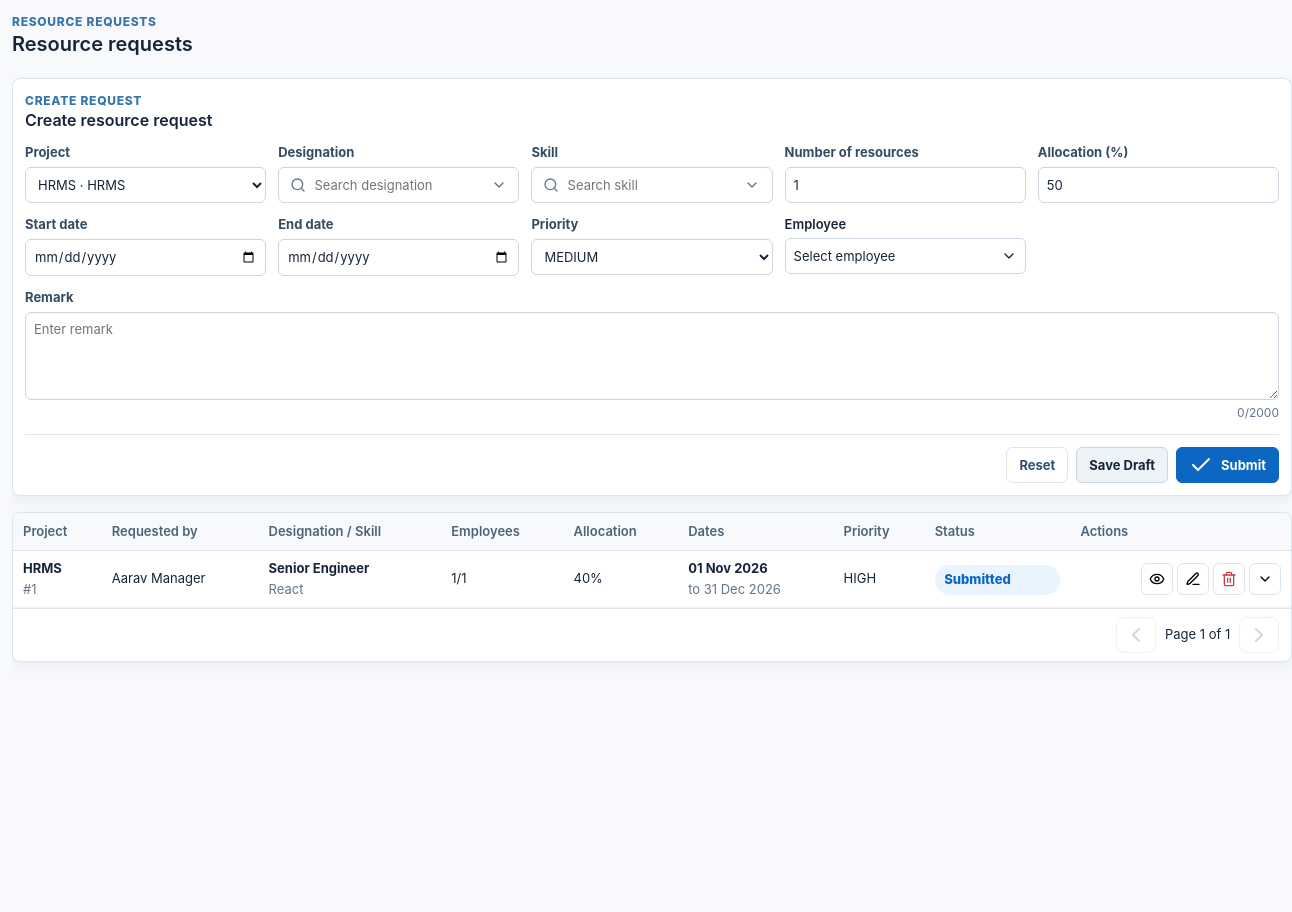
Test case: employee selection remains selected and closes the dropdown
The width and height of the screenshot is (1292, 912).
Click the button with aria-label "Select eligible employee" at (905, 256), box left=785, top=238, right=1026, bottom=274
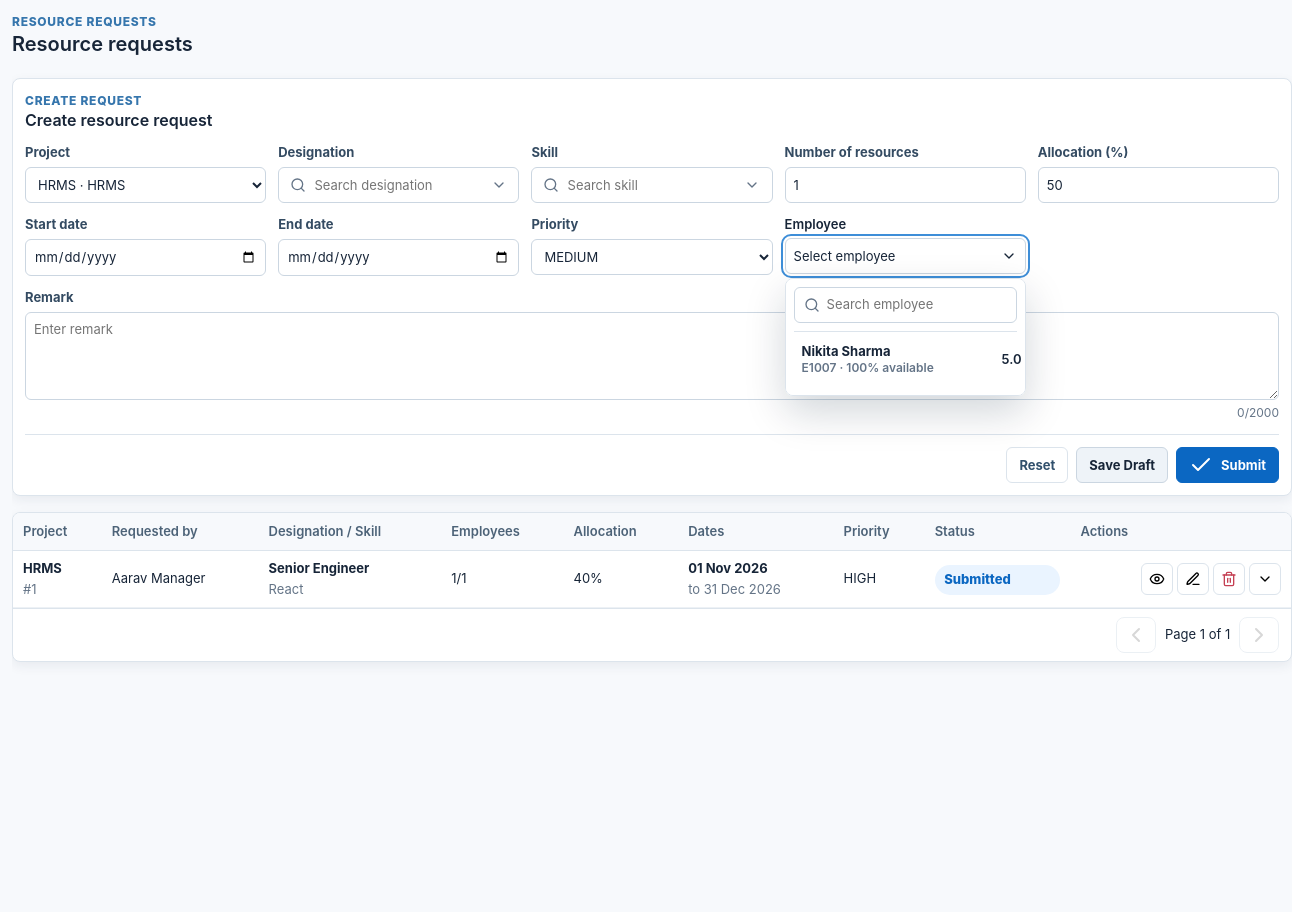
Click the text "Nikita Sharma" at (846, 351), box left=802, top=343, right=890, bottom=359
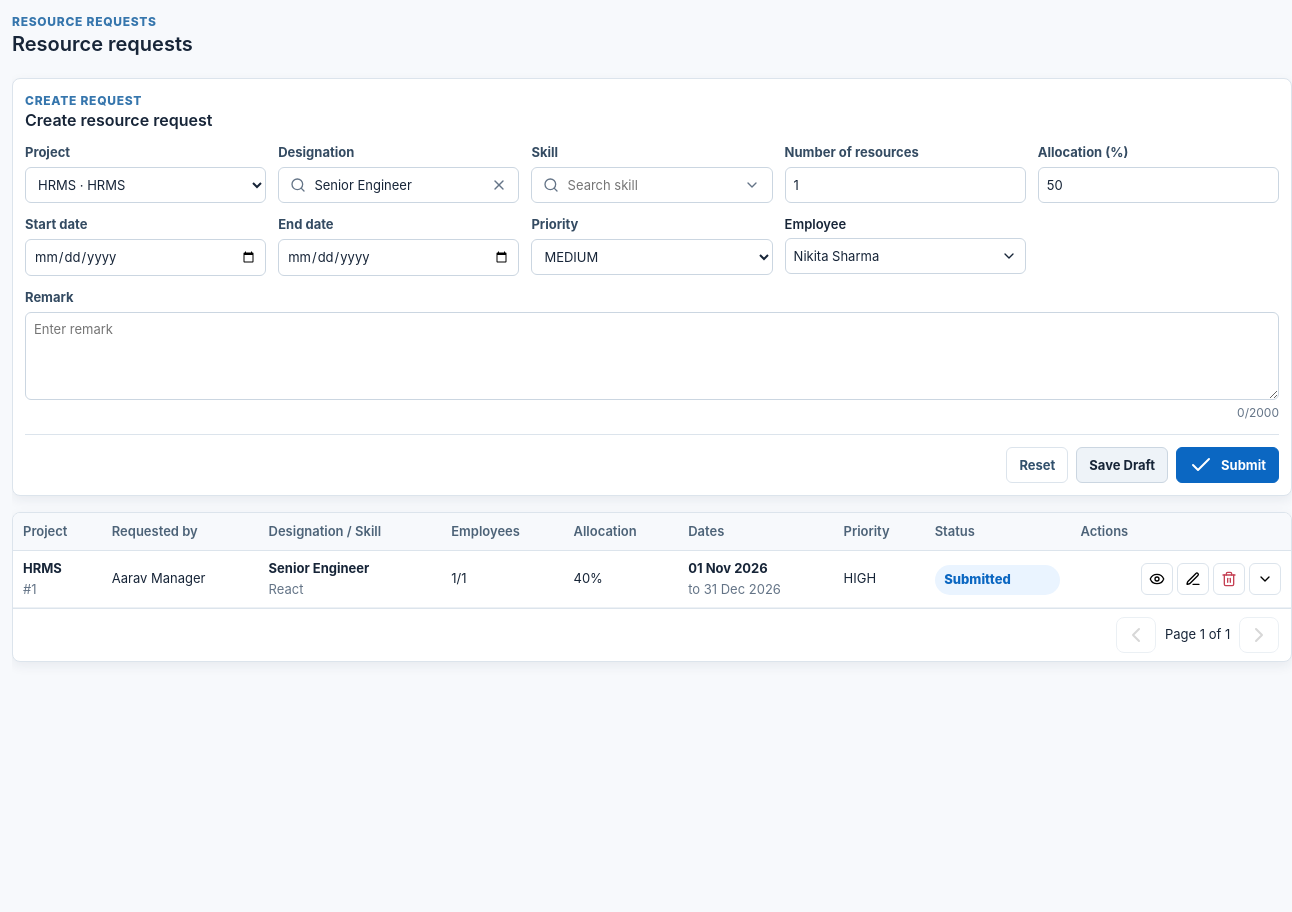
Result: the button with aria-label "Select eligible employee" reads "Nikita Sharma" at left=785, top=238, right=1026, bottom=274
